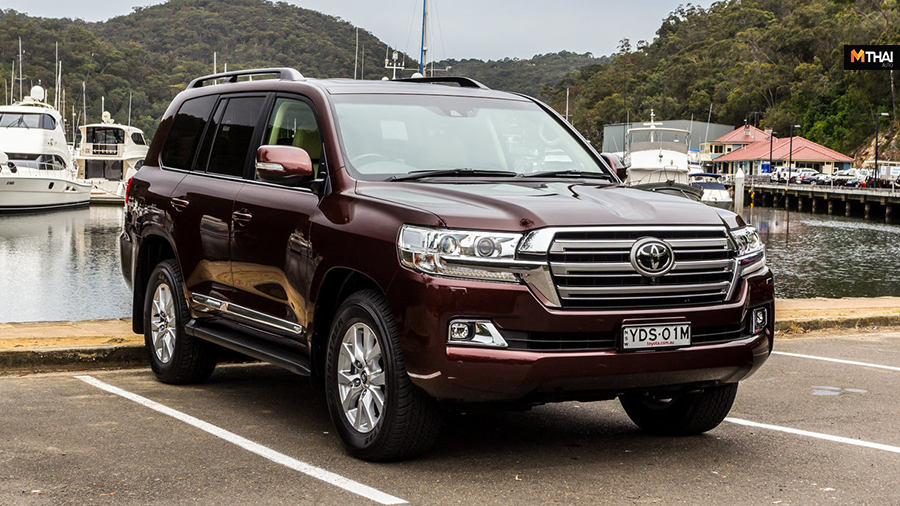pickup: (117, 64, 779, 462)
